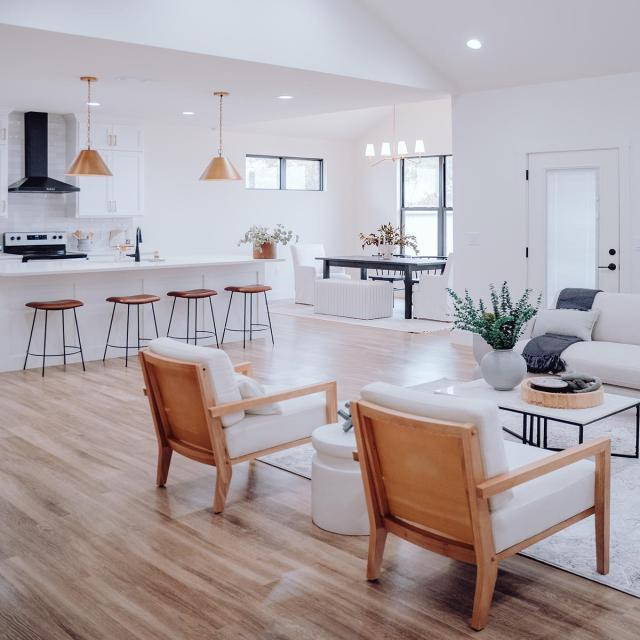white chair: (344, 385, 608, 630), (138, 339, 326, 523), (11, 295, 92, 375), (212, 277, 280, 357)
